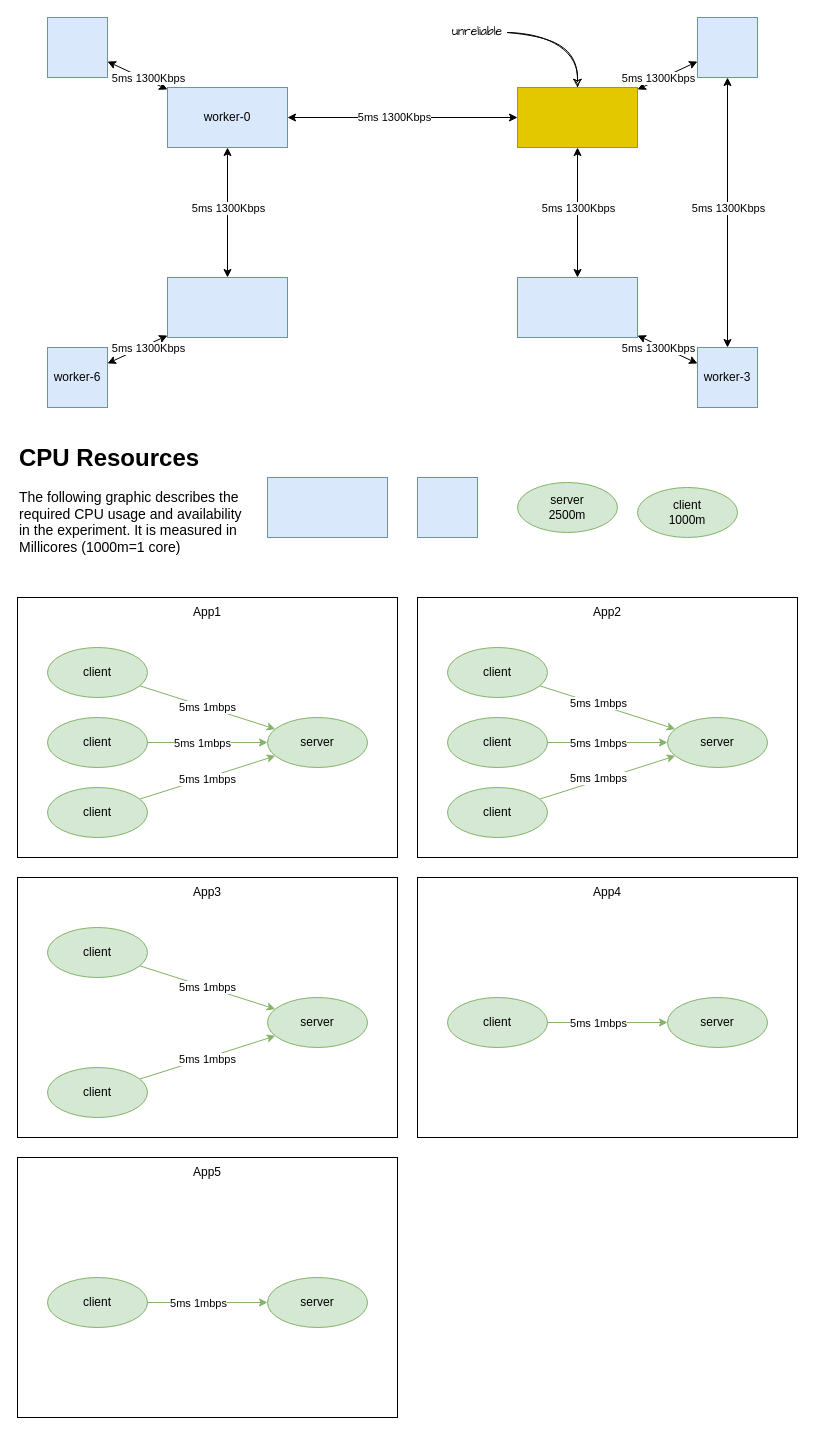
Some shapes in this 815 by 1435 pixel diagram are drawn without their labels. Each missing label, with the box of its shape:
2000m: (416, 476, 478, 538)
4000m: (266, 476, 388, 538)
manager-0: (166, 276, 288, 338)
worker-1: (516, 86, 638, 148)
worker-2: (516, 276, 638, 338)
worker-4: (696, 16, 758, 78)
worker-5: (46, 16, 108, 78)
